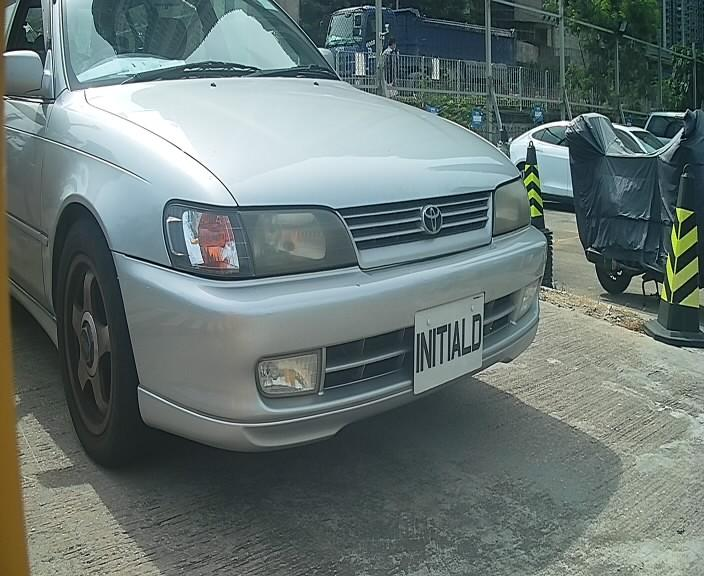License Plate: (401, 287, 491, 408)
